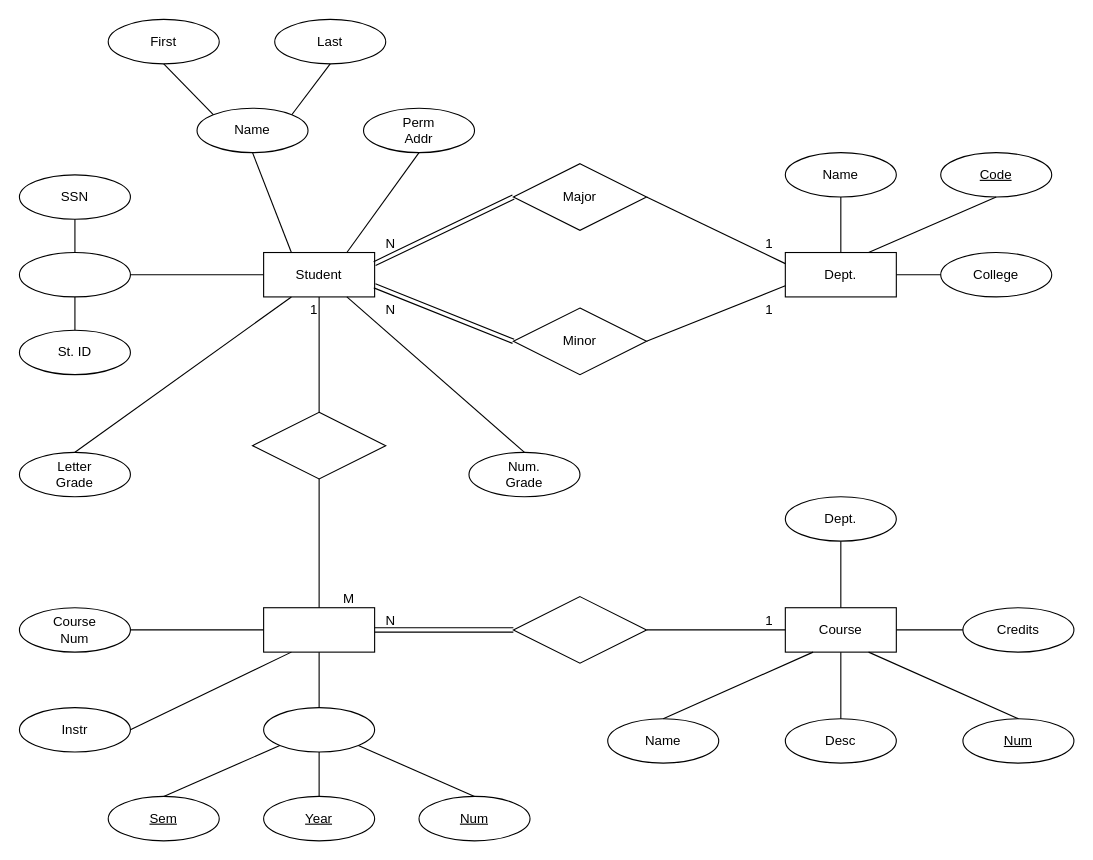
This 1093x860 diagram has some shape labels left out. The shapes that lost their labels are listed below. From the top down, each one's centre as x and y in pixels, then its label:
the point at 74,274: Unique
the point at 318,445: Takes
the point at 319,629: Section
the point at 579,629: S-C
the point at 319,729: ID
